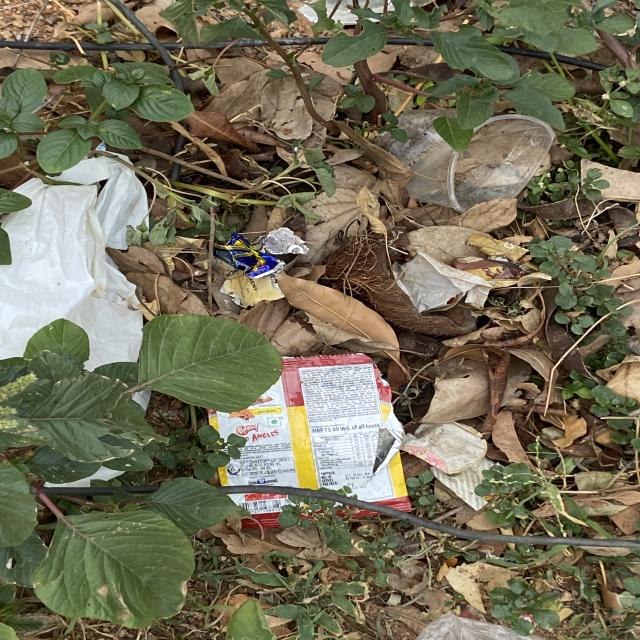giay: (401, 423, 494, 511), (397, 252, 493, 313), (220, 270, 284, 308), (261, 227, 309, 255)
giay_goi: (207, 355, 410, 512), (214, 233, 285, 278), (232, 495, 286, 527)
nhua: (0, 156, 147, 370), (376, 109, 555, 212), (416, 615, 546, 640)
